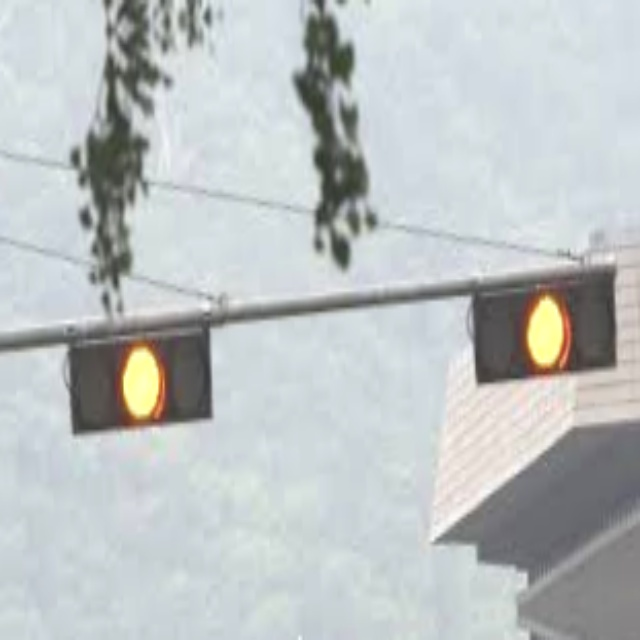yellow_light: (523, 288, 576, 374), (119, 340, 164, 424)
